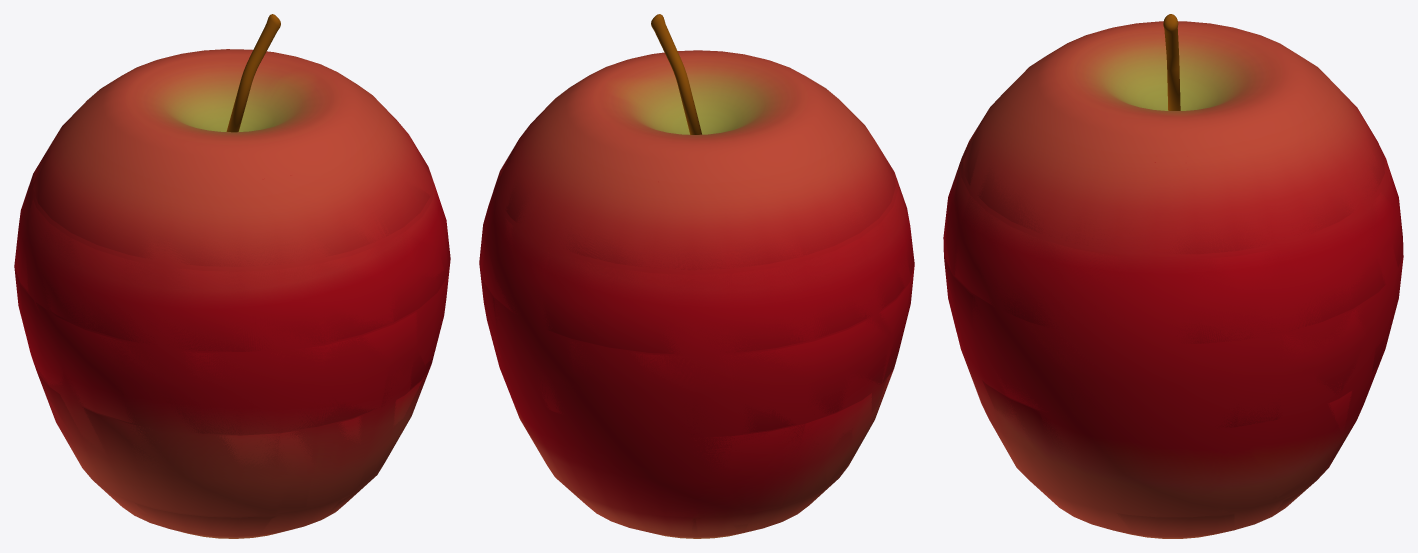
File: apple.fbx
The picture shows the model from 3 angles, left to right: view 1: azimuth 30°, elevation 25°; view 2: azimuth 150°, elevation 25°; view 3: azimuth 270°, elevation 25°; orthographic projection. The views are drawn at different scales.
Parts seen in each view (by area): view 1: apple, apple.002, apple.003, apple.004, apple.005, apple.006; view 2: apple, apple.002, apple.003, apple.004, apple.005, apple.006; view 3: apple, apple.002, apple.003, apple.004, apple.005, apple.006.
Boxes of the visible parts, box(x1,y1,x2,y2) form: apple: box(14, 14, 450, 538); apple.002: box(33, 14, 431, 266); apple.003: box(15, 176, 450, 351); apple.004: box(14, 263, 450, 434); apple.005: box(37, 372, 423, 516); apple.006: box(134, 487, 363, 538); apple: box(479, 14, 914, 538); apple.002: box(498, 14, 895, 270); apple.003: box(480, 176, 914, 354); apple.004: box(482, 265, 914, 434); apple.005: box(544, 370, 893, 517); apple.006: box(557, 479, 812, 538); apple: box(943, 14, 1403, 537); apple.002: box(963, 14, 1384, 254); apple.003: box(943, 160, 1403, 343); apple.004: box(944, 258, 1403, 428); apple.005: box(962, 352, 1352, 516); apple.006: box(1089, 486, 1308, 538).
Bounding box in the file's own units: 53.94 × 66.03 × 53.94.
Materials: 3 (2 with a texture image).
